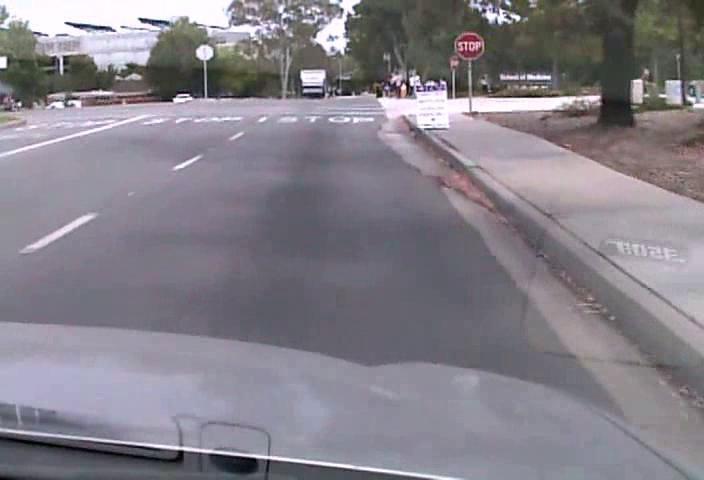stop: (454, 31, 484, 60)
